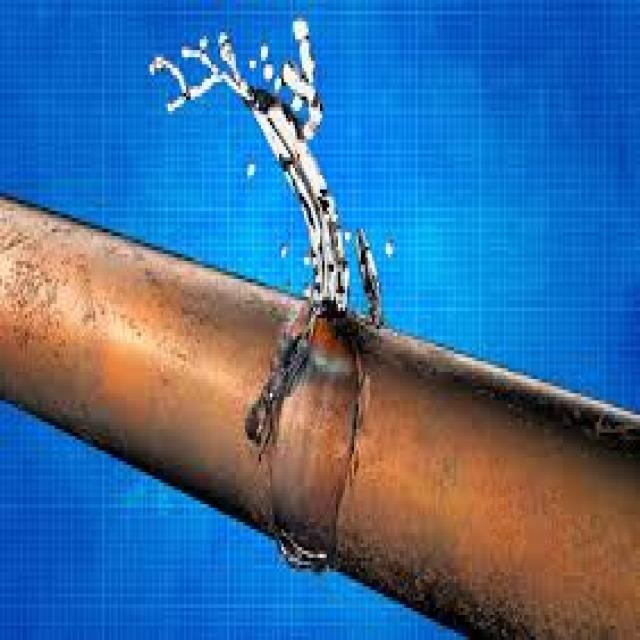corrosion: (251, 106, 399, 424)
